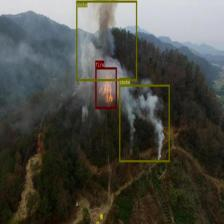fire: (95, 67, 117, 108)
smoke: (76, 0, 137, 81), (119, 84, 169, 162)
